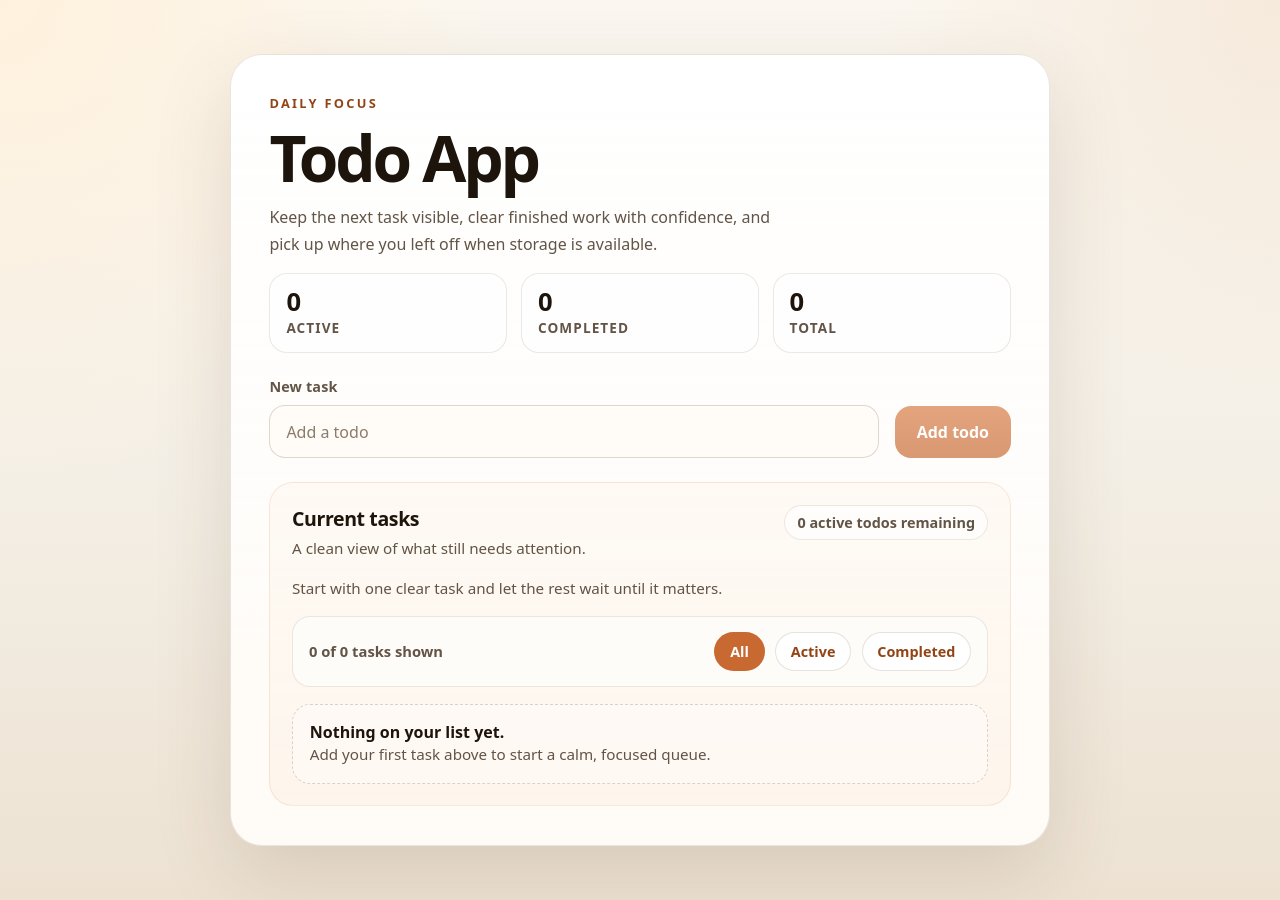
Test: HomePage › restores the empty state after deleting the last todo
The image size is (1280, 900).
Type "Buy milk" into the field labelled "New task".
click(574, 432); type("Buy milk")  # box x1=269 y1=405 x2=879 y2=458
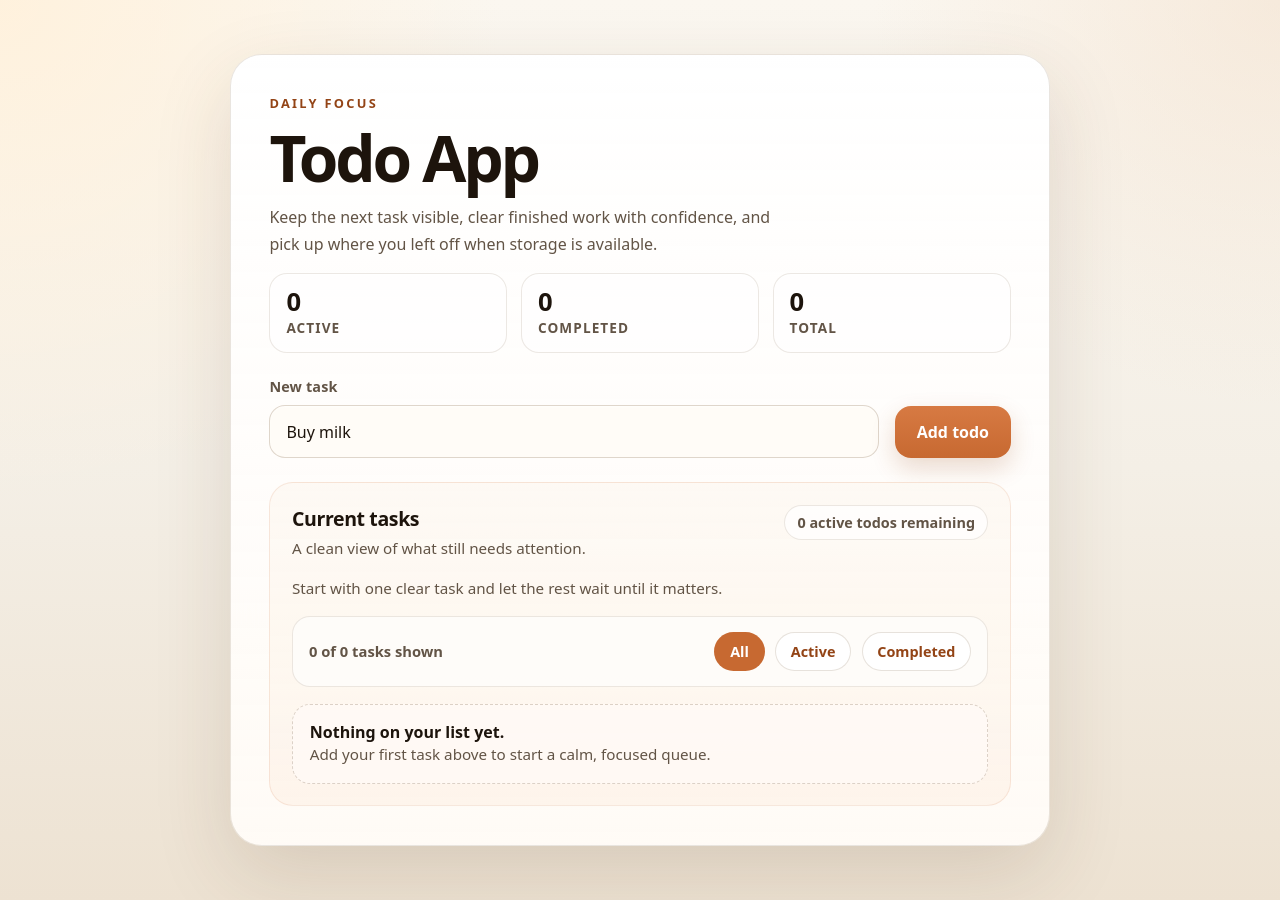
Click the button "Add todo".
click(953, 432)  # box x1=895 y1=406 x2=1011 y2=458
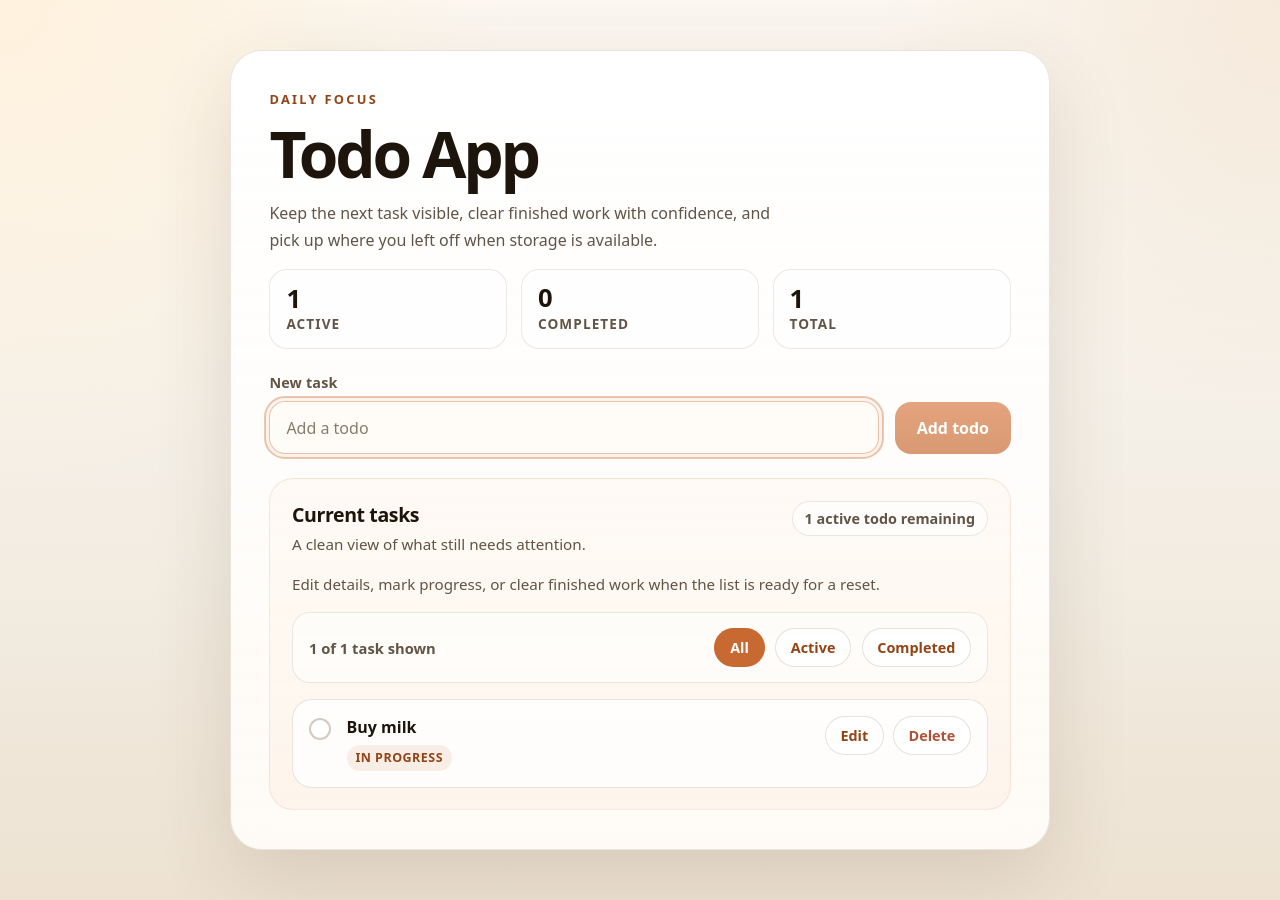
Click the button named "Delete Buy milk".
click(932, 736)  # box x1=893 y1=716 x2=971 y2=755
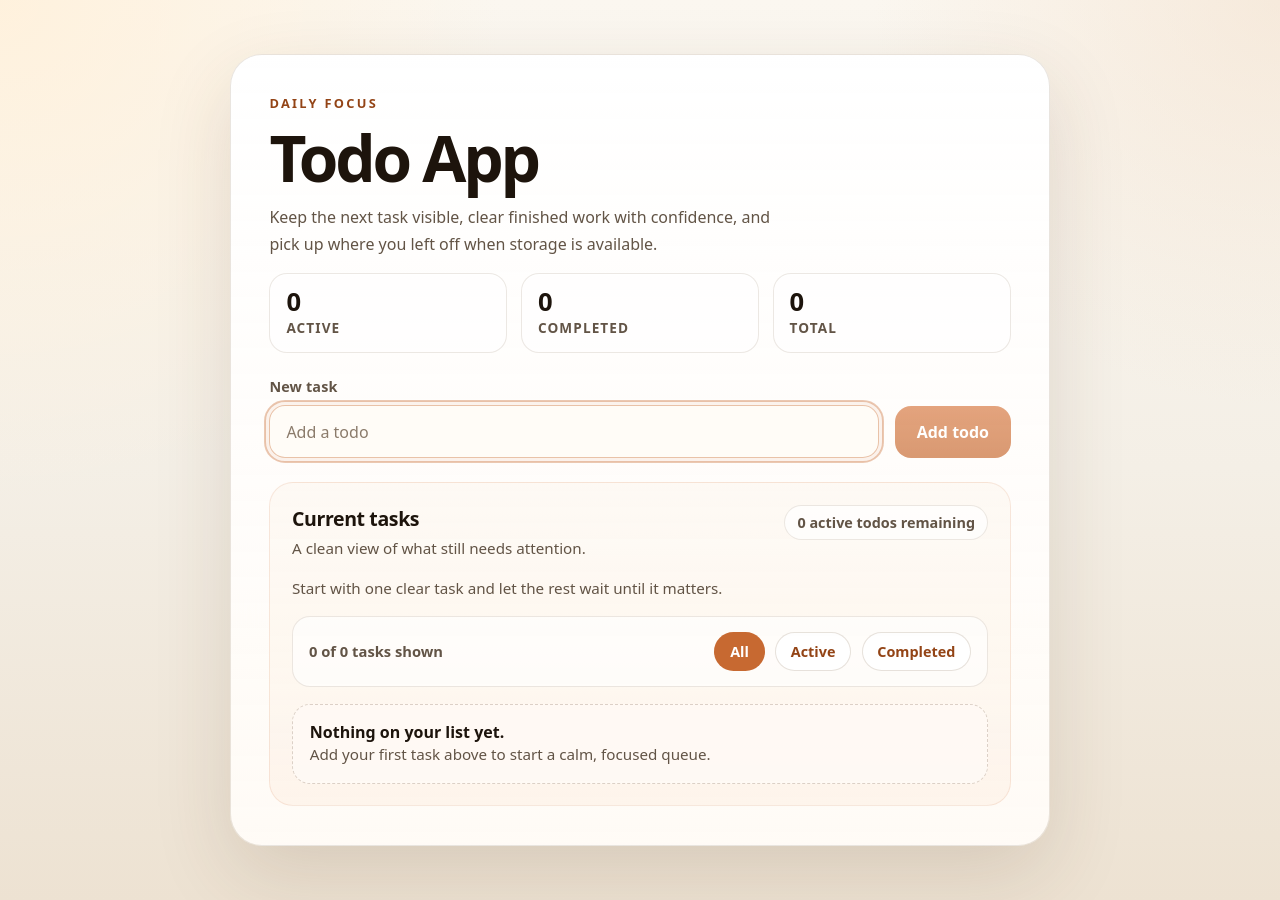
Result: the text "Nothing on your list yet." is shown at x1=310 y1=721 x2=504 y2=743
Result: the text "Add your first task above to start a calm, focused queue." is shown at x1=310 y1=744 x2=711 y2=764
